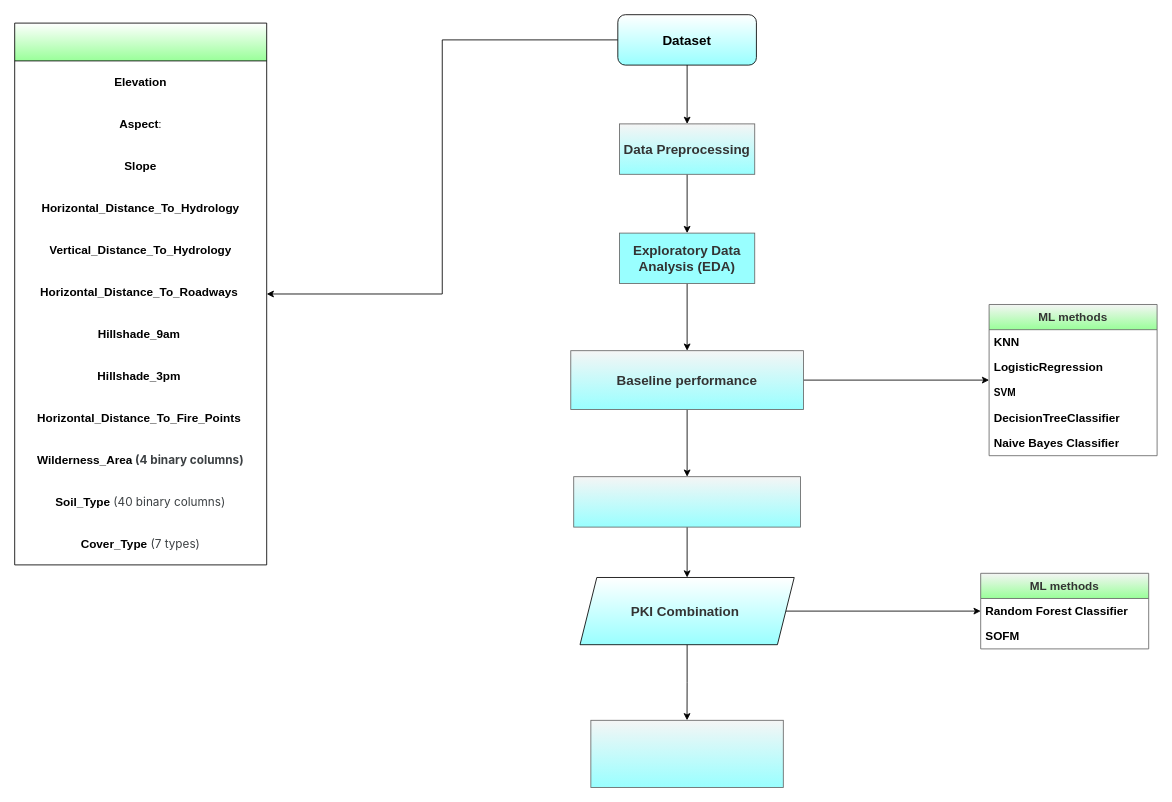
This 1172x802 diagram has some shape labels left out. The shapes that lost their labels are listed below. From the top down, each one's box as (x1, y1, x2, y2) in pixels, then its label:
(14, 22, 267, 565): Forest cover type prediction Features ( Multi classification problem)
(573, 476, 801, 527): Feature selection
(590, 719, 783, 788): Prediction of Cover type
